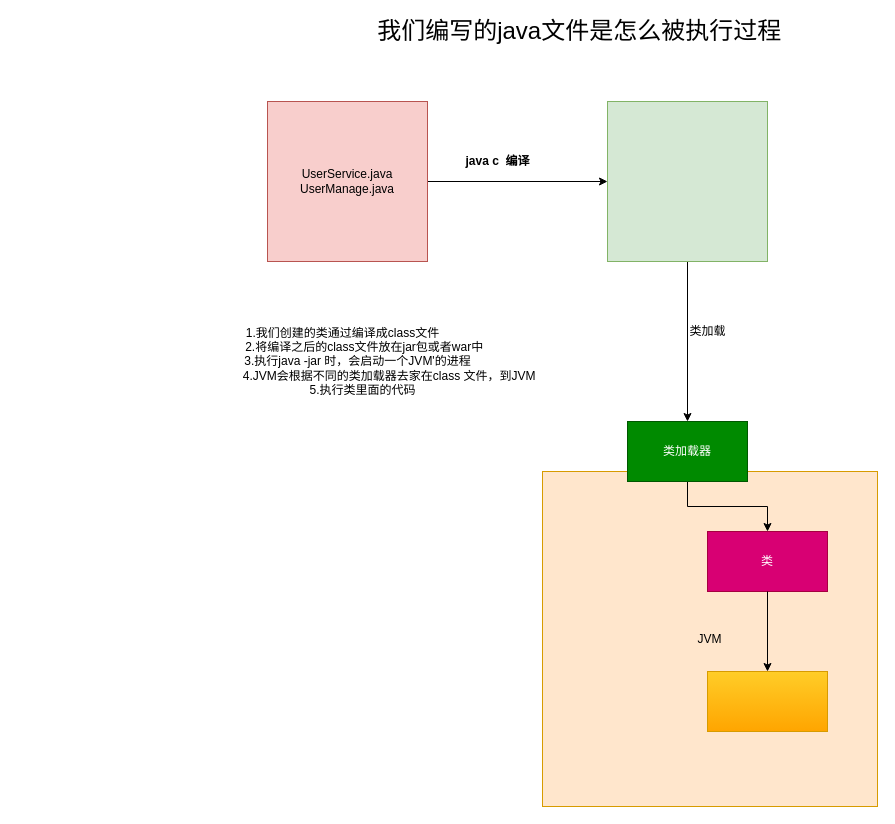
This 895x824 diagram has some shape labels left out. Here are the shapes that lost their labels. From the top down, the centre of each, then its label:
At [687,181]: "UserService.class UserManage.class".
At [767,701]: "执行代码".
